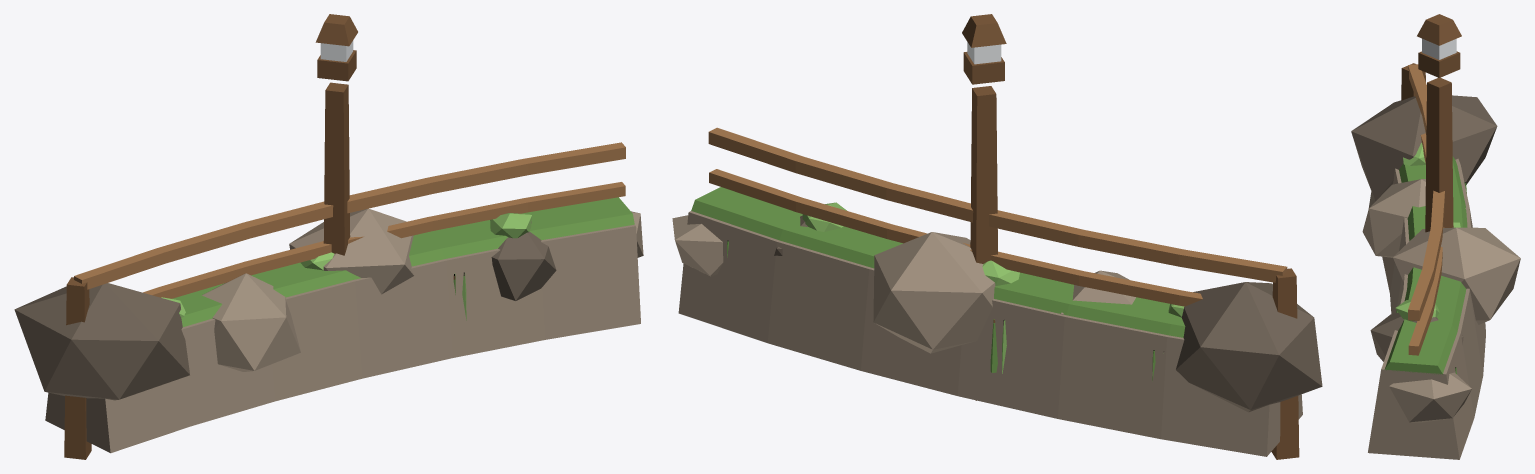
File: AST04.glb
3 views of the same model, side by side, from view 1: azimuth 30°, elevation 25°; view 2: azimuth 150°, elevation 25°; view 3: azimuth 270°, elevation 25° (orthographic). The views are drawn at different scales.
Parts seen in each view (by area): view 1: AST04b_Kerb, AST04c_Boulders, AST04a_Fence, AST04d_MarkerPost; view 2: AST04b_Kerb, AST04c_Boulders, AST04a_Fence, AST04d_MarkerPost; view 3: AST04c_Boulders, AST04b_Kerb, AST04d_MarkerPost, AST04a_Fence.
Boxes of the visible parts, <box> form: AST04b_Kerb: <box>45,197,640,453</box>; AST04c_Boulders: <box>14,208,643,400</box>; AST04a_Fence: <box>64,142,625,459</box>; AST04d_MarkerPost: <box>315,14,357,255</box>; AST04b_Kerb: <box>678,187,1302,456</box>; AST04c_Boulders: <box>672,215,1322,412</box>; AST04a_Fence: <box>708,127,1299,459</box>; AST04d_MarkerPost: <box>962,14,1006,263</box>; AST04c_Boulders: <box>1351,95,1520,422</box>; AST04b_Kerb: <box>1368,143,1485,459</box>; AST04d_MarkerPost: <box>1417,14,1461,232</box>; AST04a_Fence: <box>1401,63,1444,355</box>.
Size of the model in its own units: 3.33 by 1.87 by 0.8722.
Materials: 4 (4 with a texture image).
